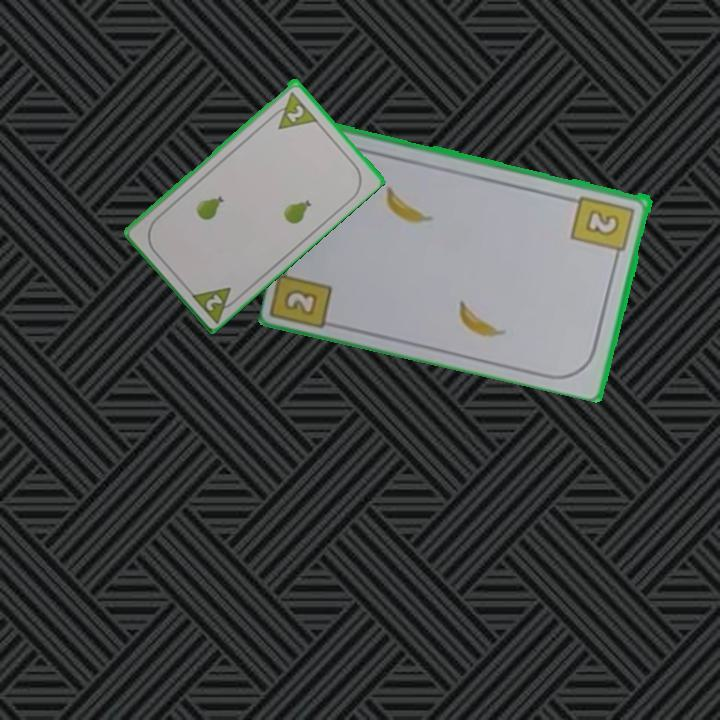2b: (569, 192, 638, 263), (280, 285, 321, 319)
2p: (186, 283, 243, 325), (266, 88, 319, 132)
